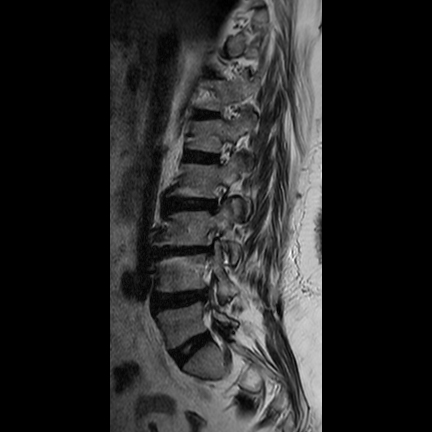RFS0: (205, 133, 241, 177), (200, 178, 235, 219)
